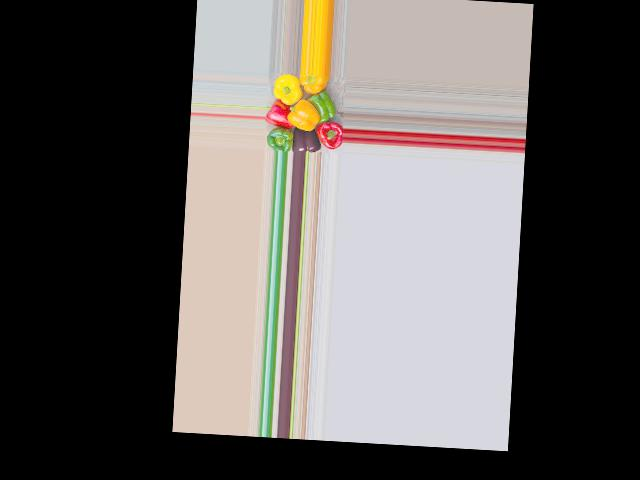bell_pepper: (298, 74, 336, 101)
